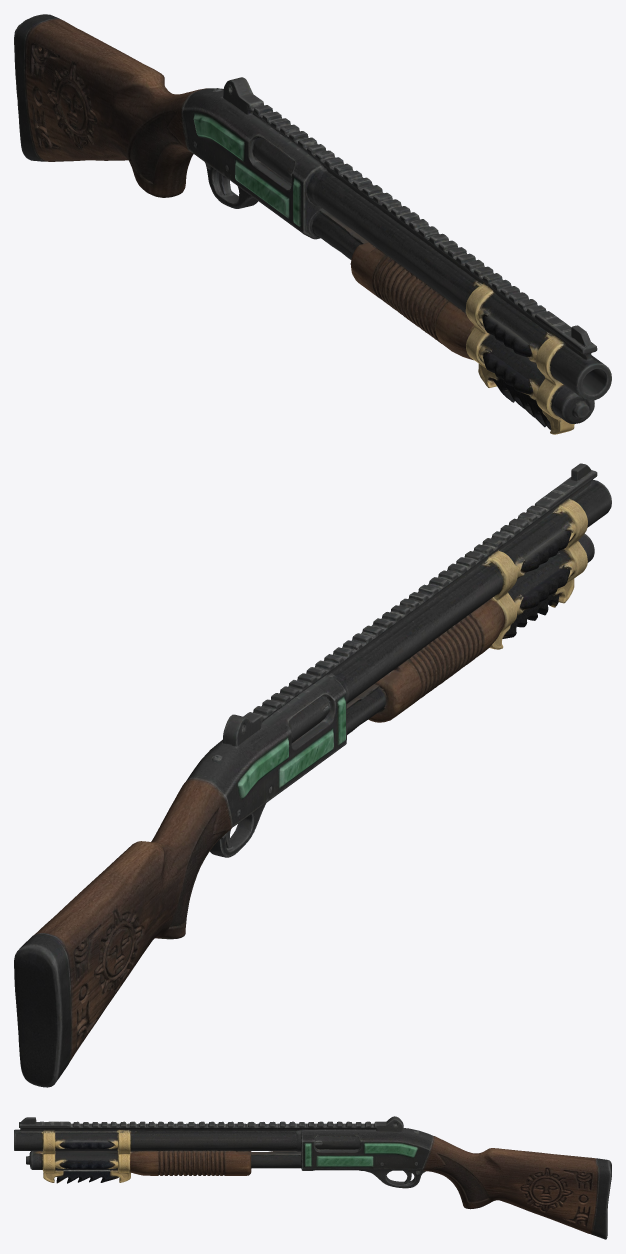
Rendered from obsidian_pump.high.glb.
3 views of the same model, one above another, from view 1: azimuth 30°, elevation 25°; view 2: azimuth 150°, elevation 25°; view 3: azimuth 270°, elevation 25° (orthographic). The views are drawn at different scales.
Visible parts, largest first — view 1: model; view 2: model; view 3: model.
Boxes of the visible parts, left/top/right/bottom form: model: left=14, top=14, right=611, bottom=434; model: left=14, top=463, right=611, bottom=1087; model: left=14, top=1116, right=611, bottom=1239.
Bounding box in the file's own units: 0.0544 × 0.217 × 0.9803.
1 material, 1 textured.
